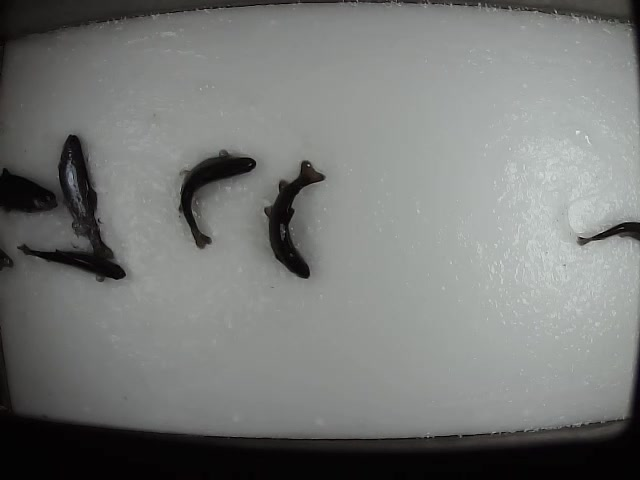fish: (178, 144, 258, 250), (262, 156, 328, 281), (58, 127, 119, 261), (18, 238, 128, 283)
